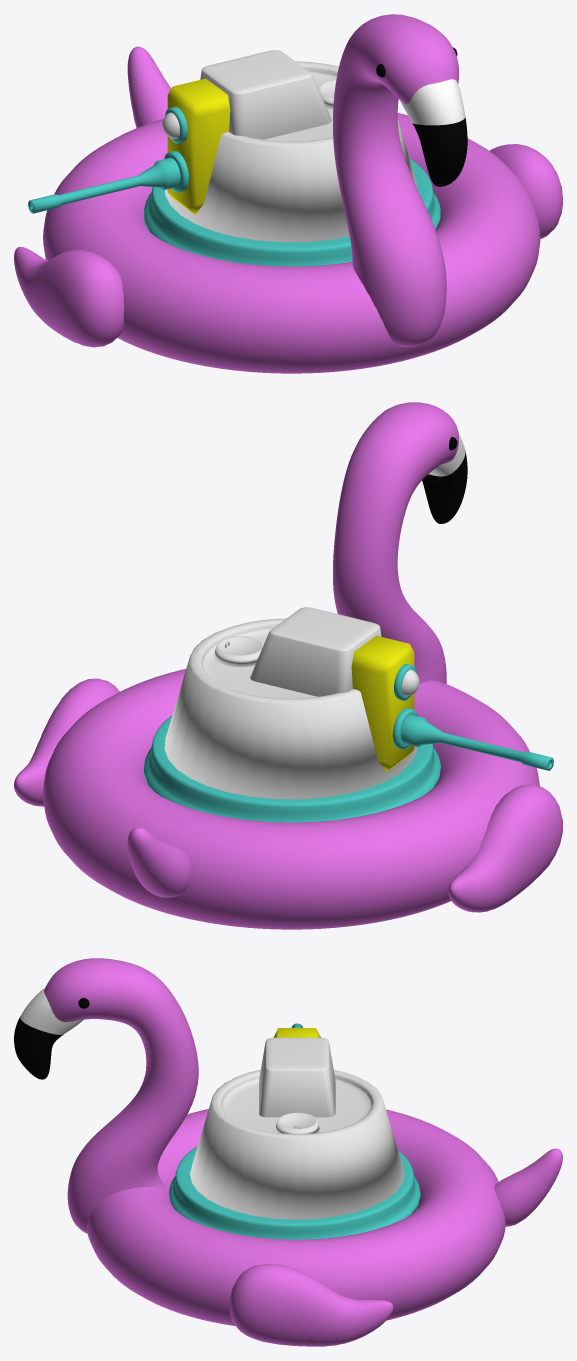
File: flamingo.fbx
The picture shows the model from 3 angles, top to bottom: view 1: azimuth 30°, elevation 25°; view 2: azimuth 150°, elevation 25°; view 3: azimuth 270°, elevation 25°; orthographic projection. The views are drawn at different scales.
Parts seen in each view (by area): view 1: Flamingo, Tank; view 2: Flamingo, Tank; view 3: Flamingo, Tank.
Boxes of the visible parts, x1,y1,x2,y2 form: Flamingo: (14, 14, 562, 373); Tank: (28, 50, 416, 242); Flamingo: (14, 402, 562, 929); Tank: (164, 607, 553, 799); Flamingo: (14, 958, 562, 1346); Tank: (190, 1023, 404, 1219).
Bounding box in the file's own units: 1354 × 890 × 1506.
